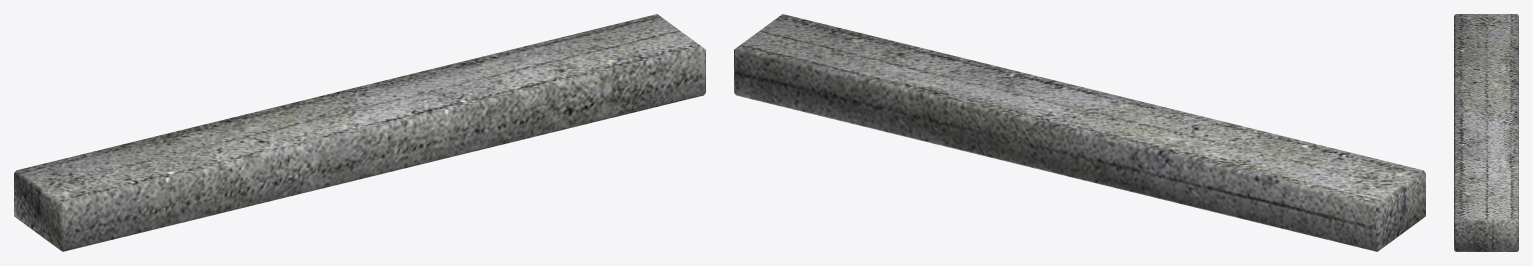
The model's file is curb02.FBX.
3 views of the same model, side by side, from view 1: azimuth 30°, elevation 25°; view 2: azimuth 150°, elevation 25°; view 3: azimuth 270°, elevation 25° (orthographic). The views are drawn at different scales.
Parts seen in each view (by area): view 1: metal_fence_small_concrete_base; view 2: metal_fence_small_concrete_base; view 3: metal_fence_small_concrete_base.
Part boxes in pixels (box(x1,y1,x2,y2)): metal_fence_small_concrete_base: box(14, 14, 705, 251); metal_fence_small_concrete_base: box(734, 14, 1425, 251); metal_fence_small_concrete_base: box(1454, 14, 1518, 251).
Size of the model in its own units: 263 by 18.64 by 34.65.
